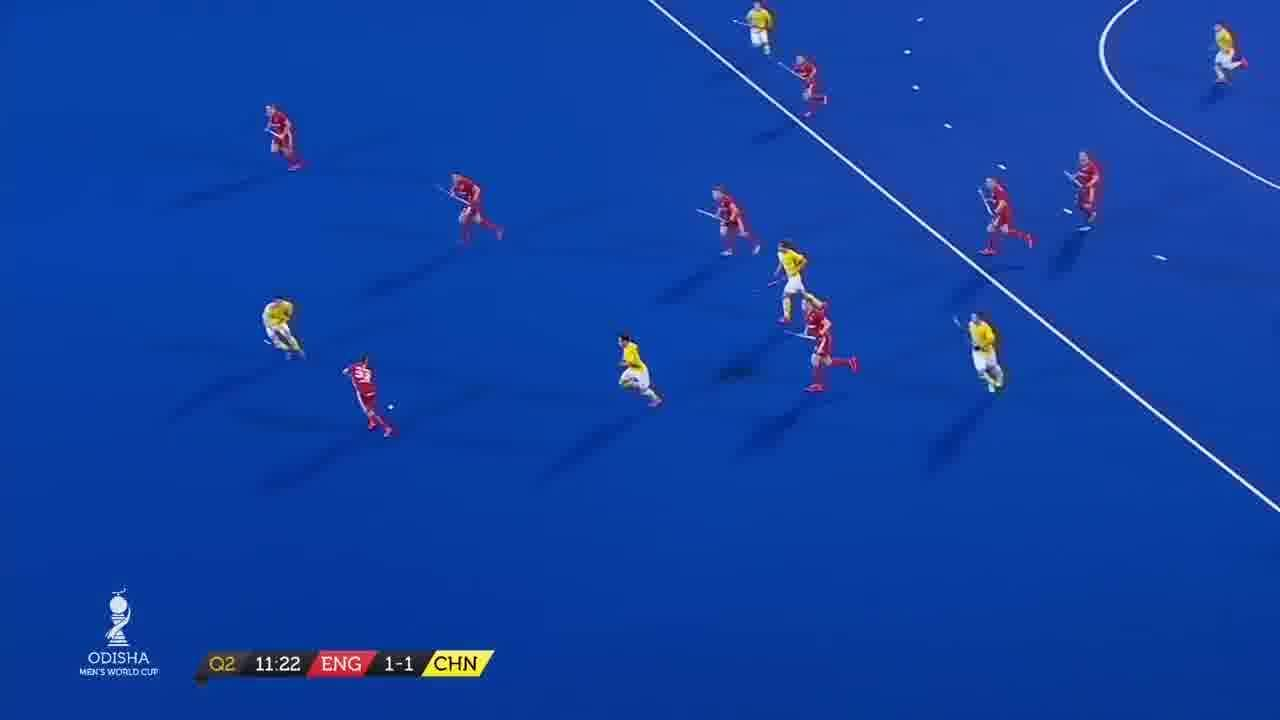ball: (384, 397, 398, 417)
